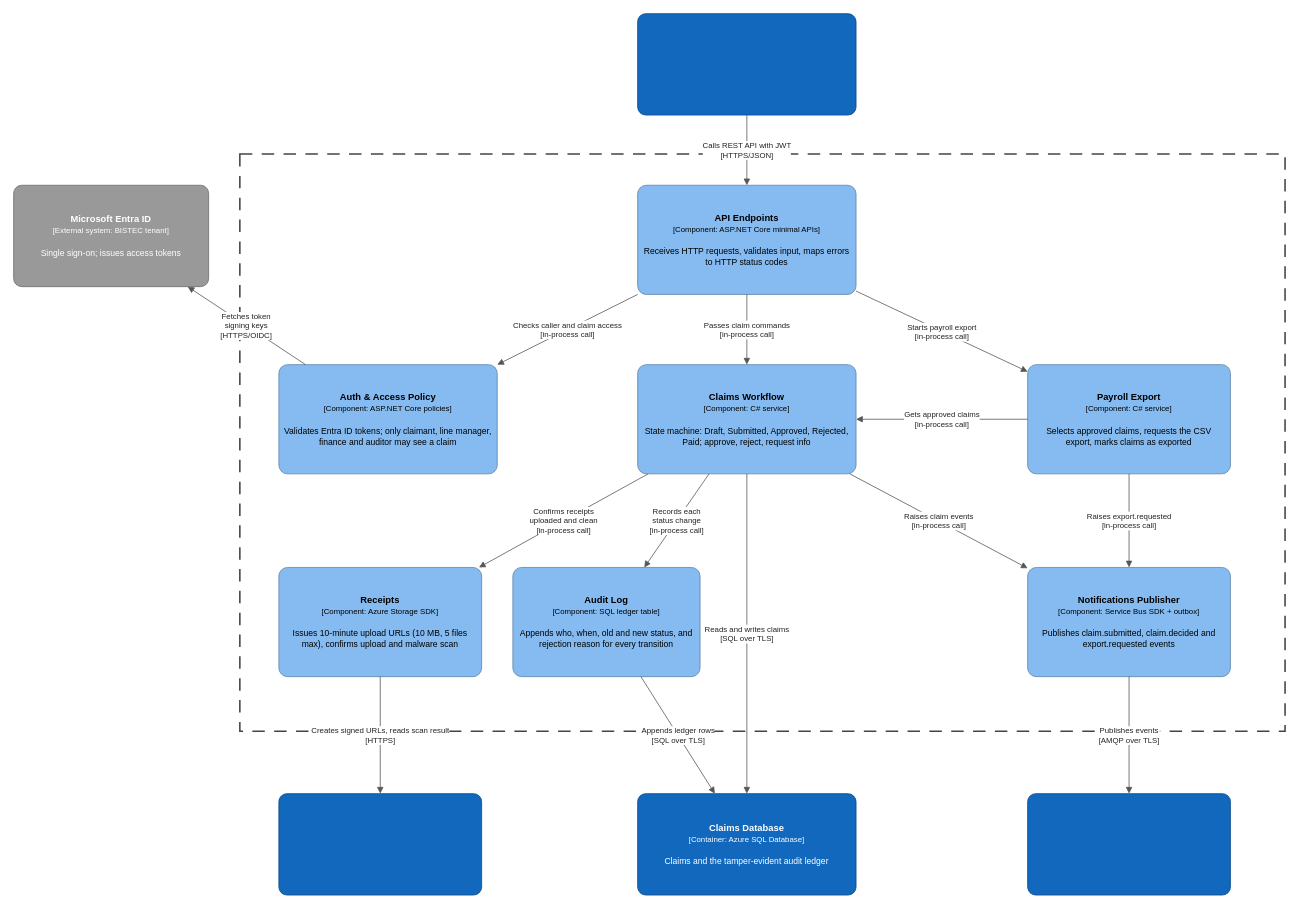
Some shapes in this 1299 by 909 pixel diagram are drawn without their labels. Each missing label, with the box of its shape:
Claims API [Container: ASP.NET Core 8 on Azure App Service]: (239, 153, 1285, 732)
Message Queue [Container: Azure Service Bus] Claim events and export requests: (1027, 793, 1230, 895)
Receipt Storage [Container: Azure Blob Storage] Stores receipt images: (278, 793, 482, 895)
Web App [Container: React SPA] Claim forms, status, approvals and export screens: (637, 13, 856, 115)
